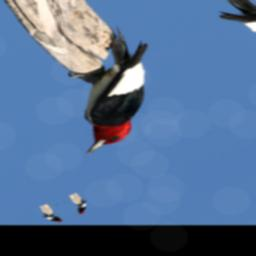Woodpecker: (15, 19, 203, 157)
